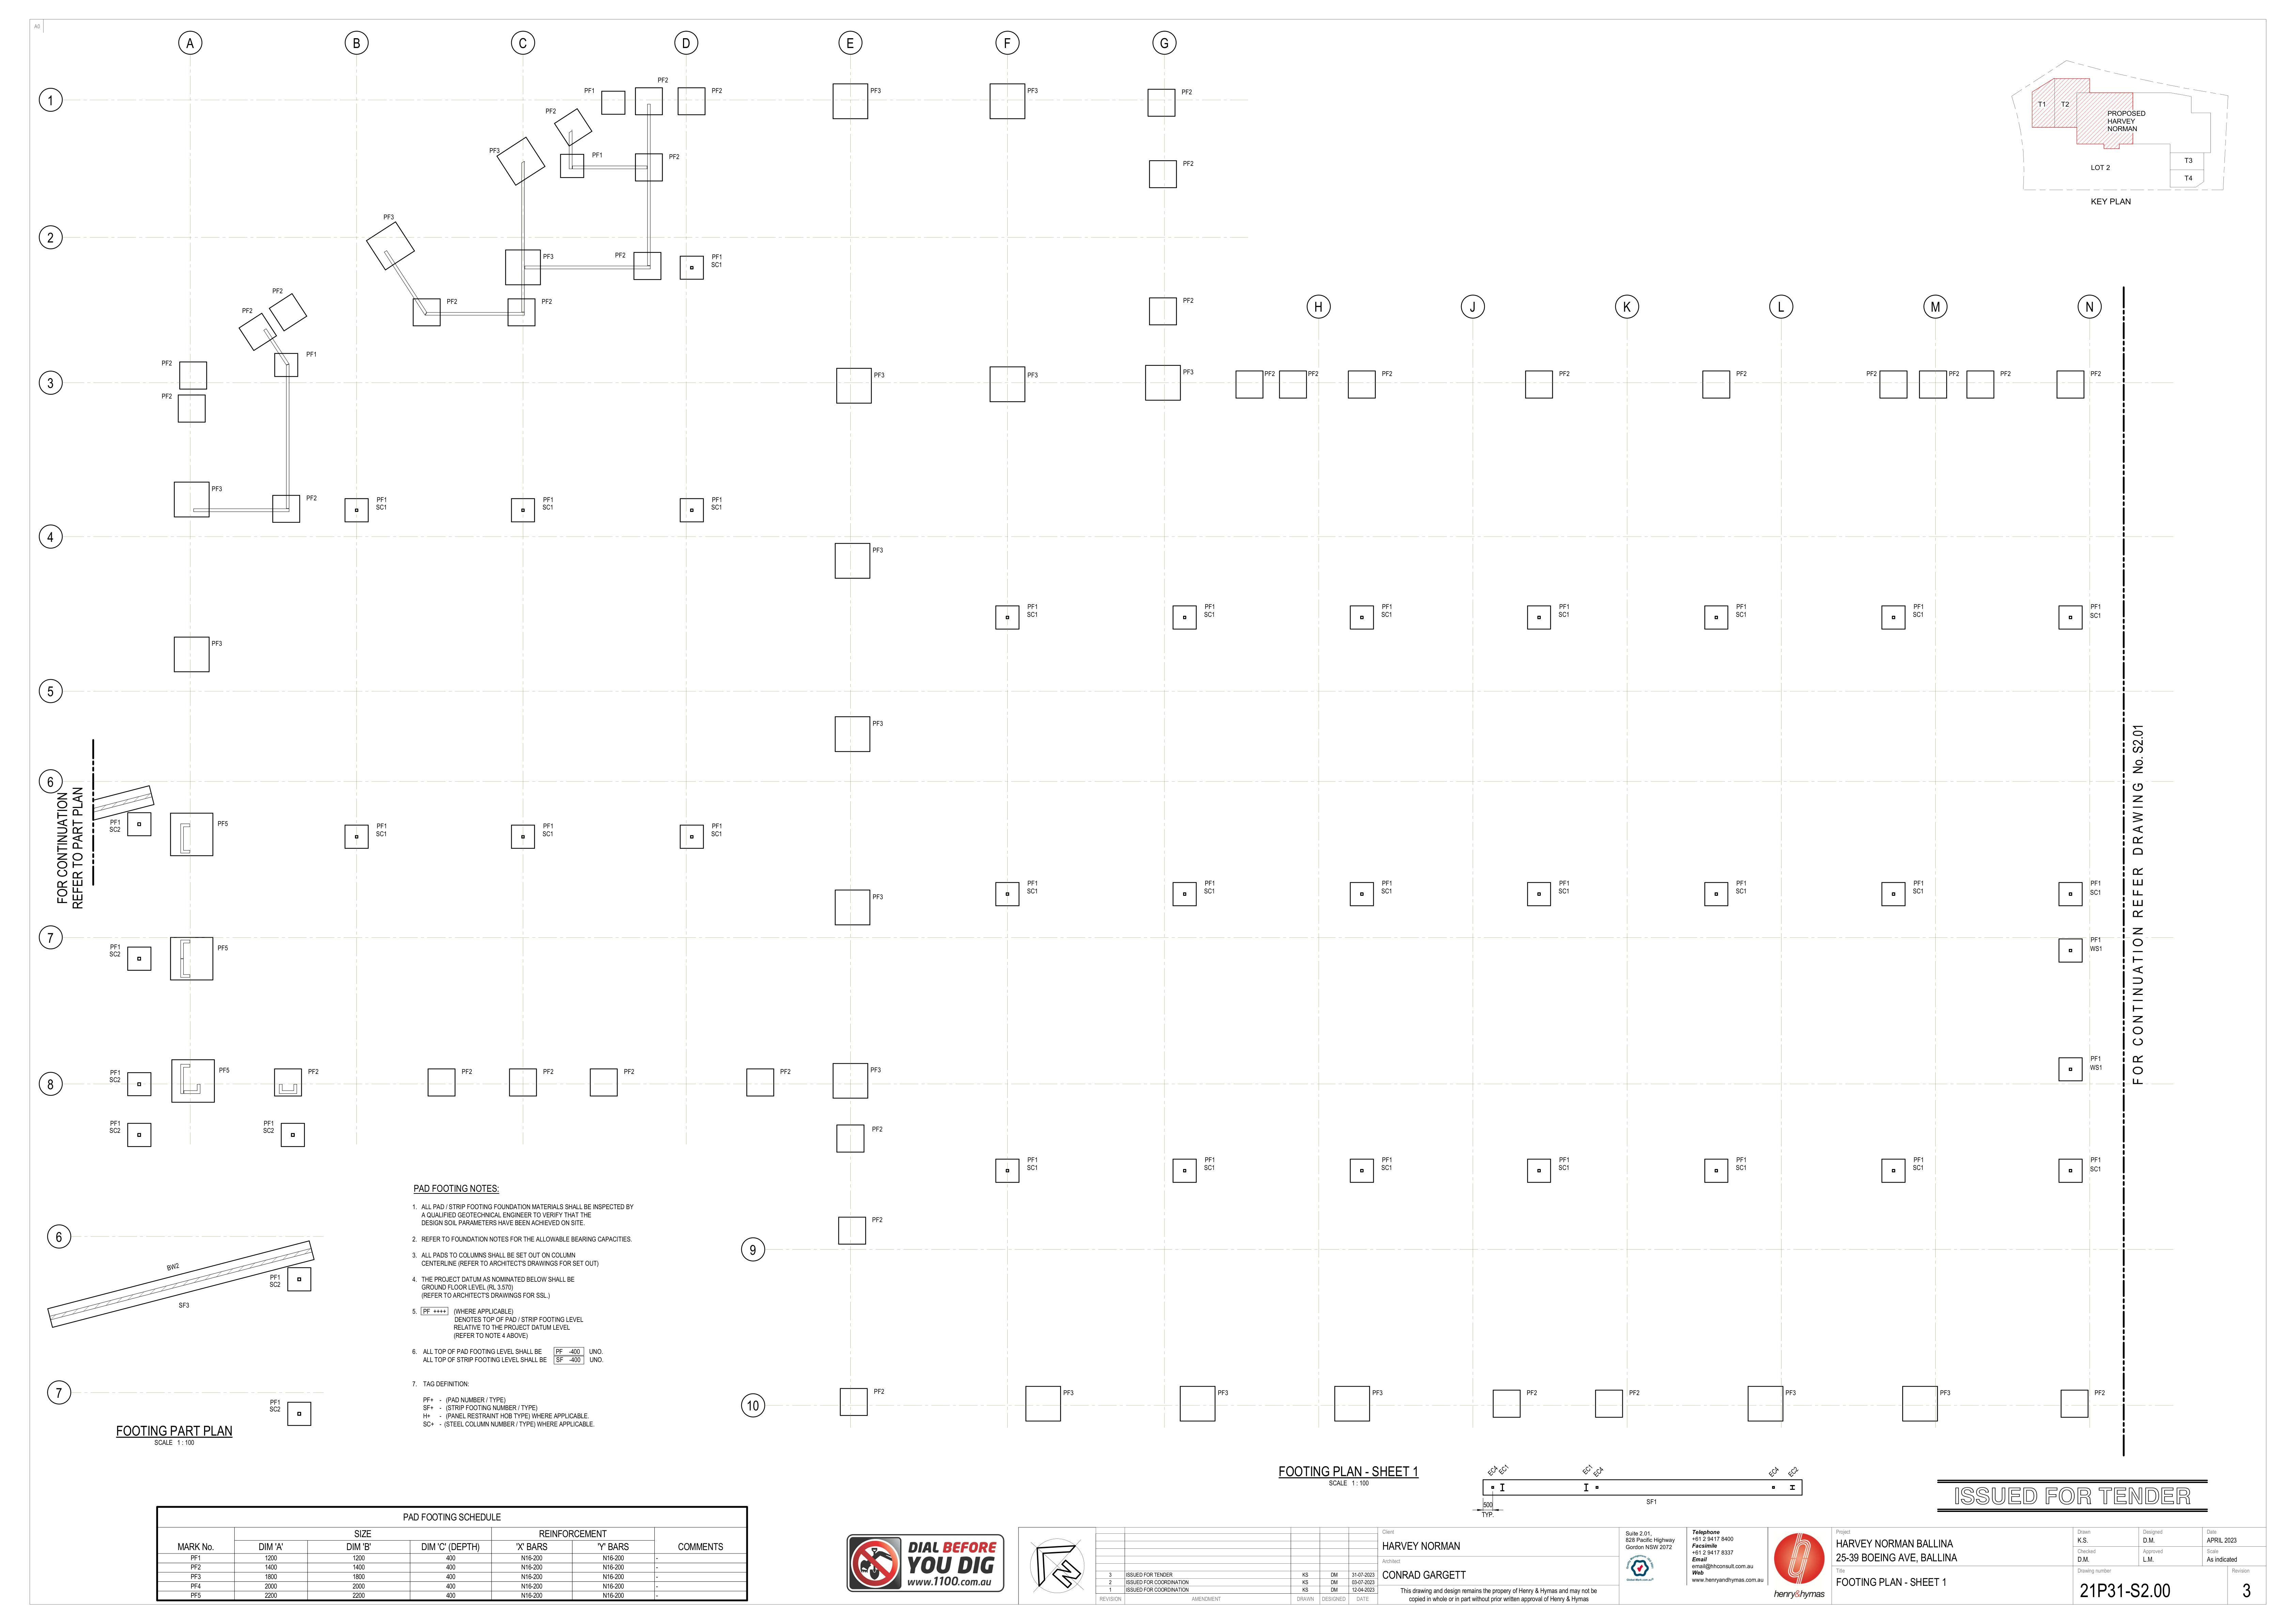BW2: (153, 1255, 183, 1272)
EC1: (1500, 1464, 1512, 1476), (1580, 1462, 1593, 1475)
EC2: (1788, 1464, 1804, 1478)
EC4: (1765, 1464, 1779, 1478), (1484, 1464, 1496, 1475), (1595, 1468, 1605, 1476)
PF1: (264, 1392, 283, 1406), (1911, 1153, 1929, 1165), (2087, 1049, 2104, 1062), (1558, 1153, 1573, 1165), (1378, 1155, 1396, 1165), (2087, 1153, 2104, 1164), (304, 348, 318, 360), (1911, 875, 1925, 888), (1201, 598, 1215, 610), (2087, 933, 2103, 944), (373, 492, 389, 503), (585, 84, 598, 97), (592, 149, 607, 160), (1735, 875, 1749, 886), (1025, 599, 1039, 610), (1913, 599, 1927, 610), (2089, 599, 2103, 610), (708, 819, 723, 830), (109, 1114, 123, 1125), (1733, 1153, 1747, 1164), (2087, 877, 2103, 886), (1556, 877, 1572, 886), (1378, 877, 1394, 886), (1556, 601, 1572, 610), (710, 492, 723, 503), (1380, 601, 1394, 610), (540, 494, 554, 503), (541, 821, 556, 830), (269, 1272, 287, 1280), (712, 251, 724, 260), (1204, 877, 1217, 886), (1027, 877, 1039, 886), (1735, 601, 1747, 610), (376, 819, 389, 828), (109, 942, 123, 949), (264, 1118, 278, 1125), (1202, 1155, 1217, 1162), (109, 817, 121, 824), (1028, 1155, 1041, 1162), (111, 1069, 121, 1076)
PF2: (707, 84, 730, 100), (1180, 292, 1202, 308), (1180, 88, 1202, 102), (1181, 155, 1201, 170), (612, 246, 629, 262), (872, 1383, 891, 1397), (668, 151, 689, 163), (540, 295, 557, 309), (2087, 366, 2104, 380), (1526, 1385, 1544, 1399), (158, 390, 178, 402), (301, 489, 316, 503), (1304, 366, 1320, 380), (1382, 364, 1396, 380), (2090, 1387, 2111, 1397), (1735, 367, 1753, 380), (1997, 367, 2015, 380), (445, 297, 464, 308), (777, 1067, 796, 1077), (1626, 1388, 1646, 1399), (1558, 364, 1572, 378), (1864, 366, 1878, 380), (1946, 366, 1960, 380), (1262, 367, 1278, 380), (160, 357, 174, 369), (656, 74, 670, 86), (308, 1067, 323, 1077), (868, 1123, 884, 1134), (269, 286, 287, 295), (239, 308, 255, 316), (541, 1067, 557, 1076), (547, 104, 559, 114), (462, 1067, 476, 1076), (622, 1067, 636, 1076), (872, 1216, 886, 1223)
PF3: (1937, 1385, 1962, 1399), (1058, 1385, 1079, 1401), (487, 142, 506, 158), (1027, 367, 1044, 383), (868, 1062, 886, 1076), (1213, 1388, 1234, 1399), (381, 211, 399, 223), (540, 248, 557, 260), (868, 83, 884, 95), (1183, 367, 1199, 380), (872, 717, 888, 729), (1786, 1385, 1802, 1397), (870, 543, 888, 554), (211, 636, 225, 649), (209, 485, 225, 496), (1027, 84, 1041, 95), (872, 891, 886, 902), (1375, 1388, 1389, 1399), (876, 371, 886, 380)
PF5: (216, 819, 234, 828), (214, 942, 232, 951), (222, 1065, 232, 1074)
SC1: (1199, 1165, 1222, 1174), (1201, 610, 1218, 620), (1377, 610, 1398, 619), (2089, 613, 2106, 624), (1378, 886, 1396, 896), (1730, 886, 1747, 896), (2087, 888, 2104, 898), (1554, 1164, 1572, 1174), (1378, 1164, 1399, 1172), (373, 828, 387, 840), (707, 260, 726, 269), (1732, 610, 1747, 620), (2087, 1164, 2104, 1172), (710, 503, 724, 513), (1732, 1164, 1753, 1171), (1025, 888, 1041, 896), (1556, 888, 1572, 896), (1909, 888, 1925, 896), (708, 831, 728, 838), (1025, 610, 1039, 619), (1556, 612, 1570, 620), (1911, 612, 1925, 620), (540, 830, 554, 838), (1204, 888, 1218, 896), (1025, 1164, 1043, 1171), (541, 504, 557, 511), (1913, 1165, 1929, 1172), (376, 504, 389, 511)
SC2: (107, 1074, 125, 1084), (265, 1404, 283, 1415), (107, 1127, 127, 1135), (105, 949, 121, 960), (267, 1280, 283, 1290), (107, 826, 123, 833)
SF1: (1644, 1496, 1661, 1508)
SF3: (176, 1299, 195, 1313)
WS1: (2089, 1062, 2104, 1074), (2089, 946, 2103, 954)
